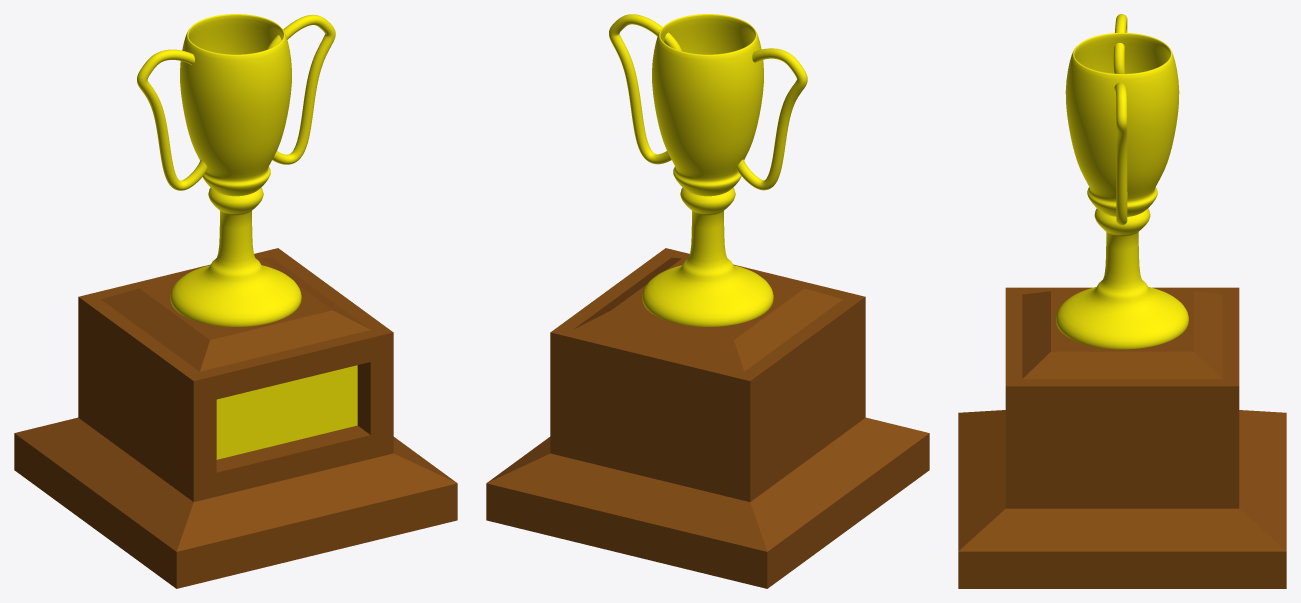
The picture shows the model from 3 angles, left to right: view 1: azimuth 30°, elevation 25°; view 2: azimuth 150°, elevation 25°; view 3: azimuth 270°, elevation 25°; orthographic projection.
Parts seen in each view (by area): view 1: Cube.002; view 2: Cube.002; view 3: Cube.002.
Part boxes in pixels (x1,y1,x2,y2): Cube.002: [14, 14, 457, 588]; Cube.002: [486, 14, 929, 588]; Cube.002: [958, 14, 1286, 588].
Size of the model in its own units: 628 by 986 by 628.
